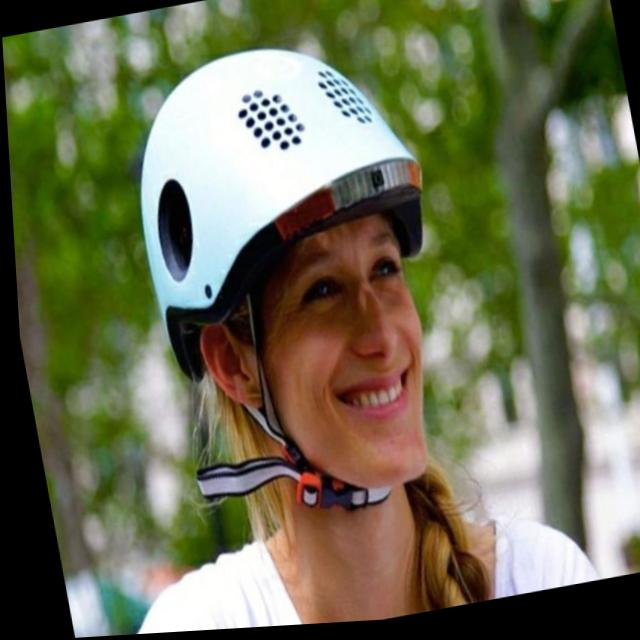helmet: (113, 24, 477, 549)
